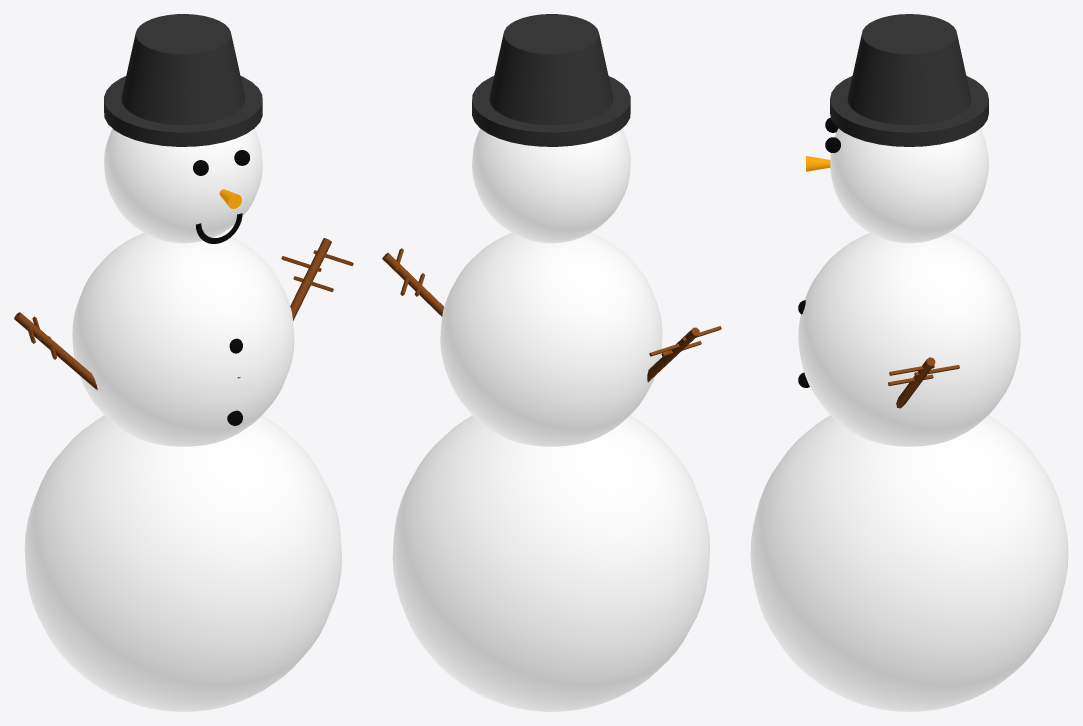
Rendered from snowman_scene.gltf.
3 views of the same model, side by side, from view 1: azimuth 30°, elevation 25°; view 2: azimuth 150°, elevation 25°; view 3: azimuth 270°, elevation 25° (orthographic).
Bounding box in the file's own units: 23.4 × 46 × 20.
